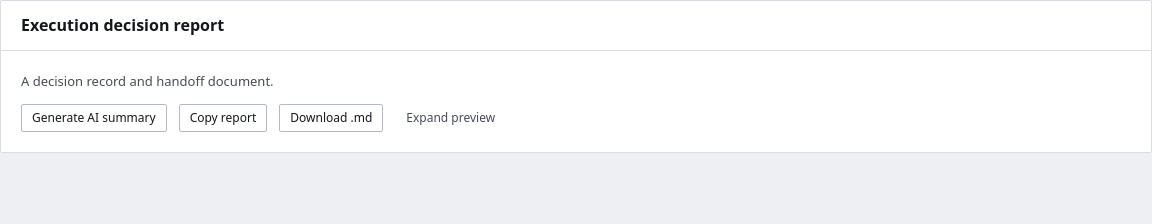
Test case: ActionReportWorkspace › AI error typing — distinct copy per HTTP status, not one folded message › 502 ai_summary_failed
Click the button "Generate AI summary": (94, 118) [21, 104, 167, 132]
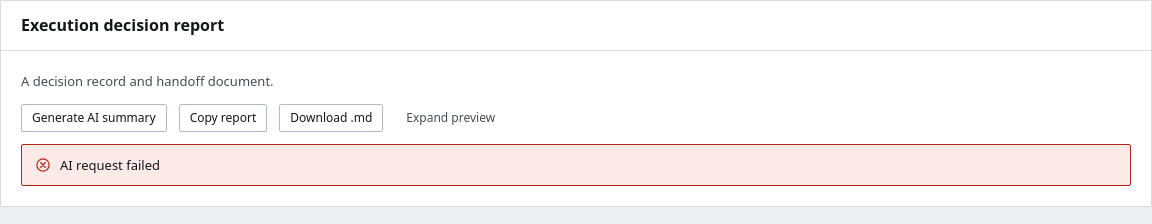
Result: the text "AI request failed" is shown at [60, 155, 160, 175]
